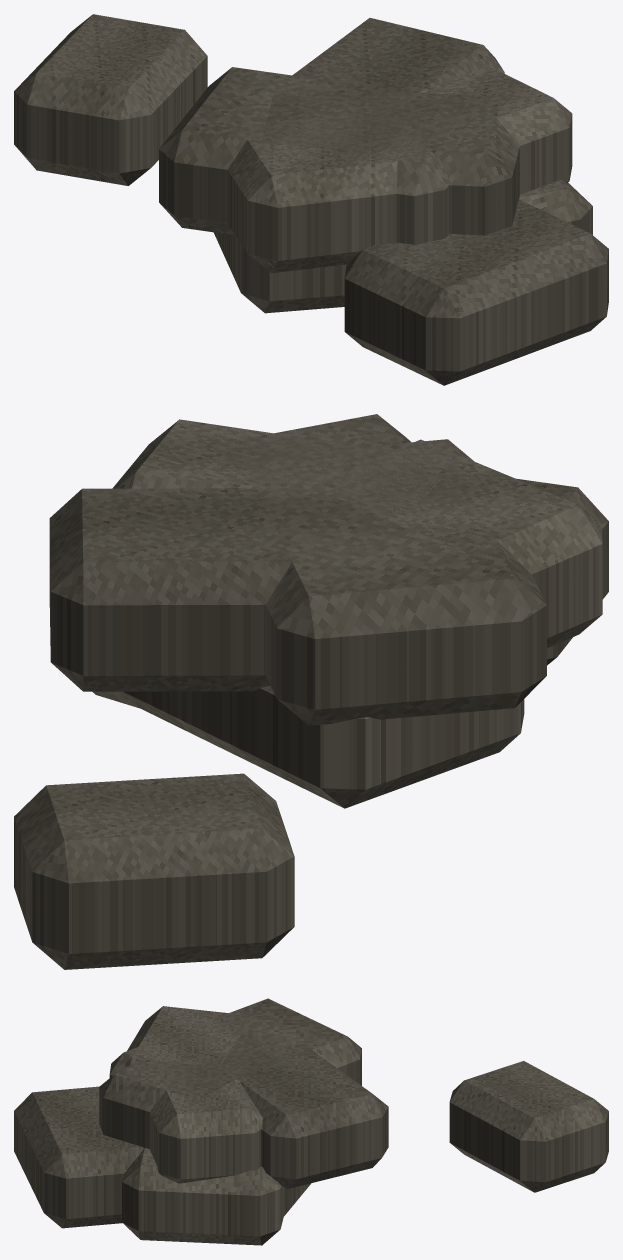
The model's file is env_rocks_10_masonry_chips.glb.
3 views of the same model, one above another, from view 1: azimuth 30°, elevation 25°; view 2: azimuth 150°, elevation 25°; view 3: azimuth 270°, elevation 25° (orthographic). The views are drawn at different scales.
Visible parts, largest first — view 1: solid; view 2: solid; view 3: solid.
Part boxes in pixels (x1,y1,x2,y2): solid: [14, 14, 608, 385]; solid: [14, 414, 608, 969]; solid: [14, 998, 608, 1245].
Bounding box in the file's own units: 0.4211 × 0.19 × 0.7989.
Materials: 1 (1 with a texture image).
